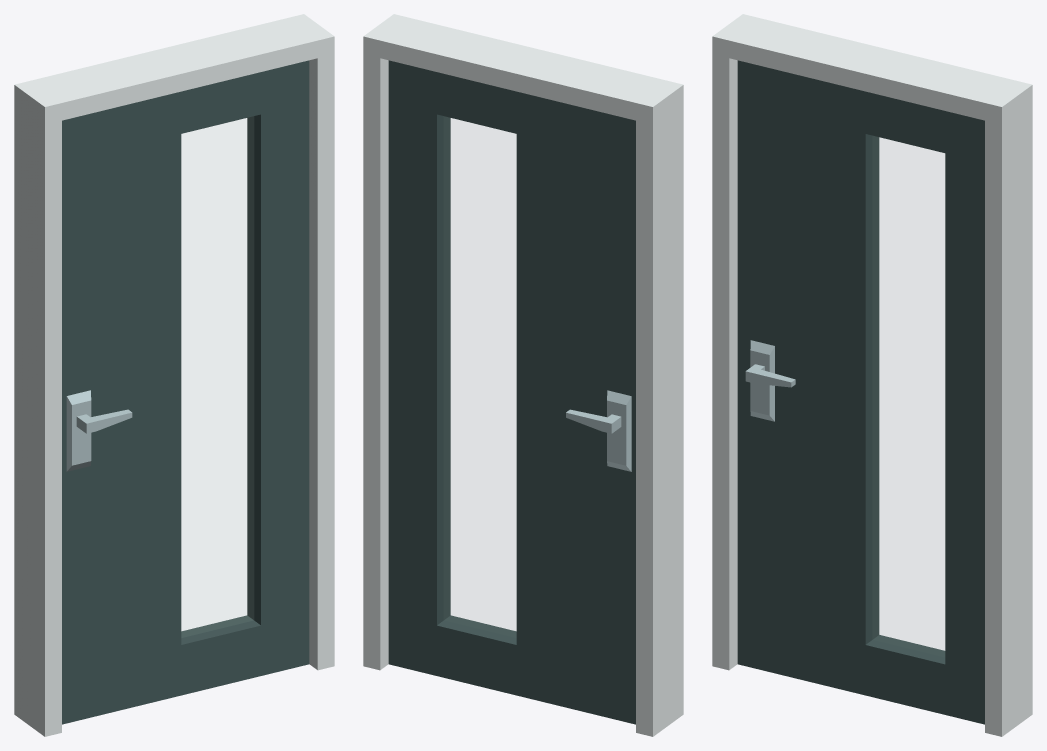
Rendered from Door.glb.
3 renders of one model, left to right at view 1: azimuth 30°, elevation 25°; view 2: azimuth 150°, elevation 25°; view 3: azimuth 330°, elevation 25°, orthographic.
Parts seen in each view (by area): view 1: door; view 2: door; view 3: door.
Part boxes in pixels (bbox=[...]): door: bbox=[14, 14, 334, 736]; door: bbox=[363, 14, 683, 736]; door: bbox=[712, 14, 1032, 736].
Size of the model in its own units: 0.486 by 1.01 by 0.1134.
